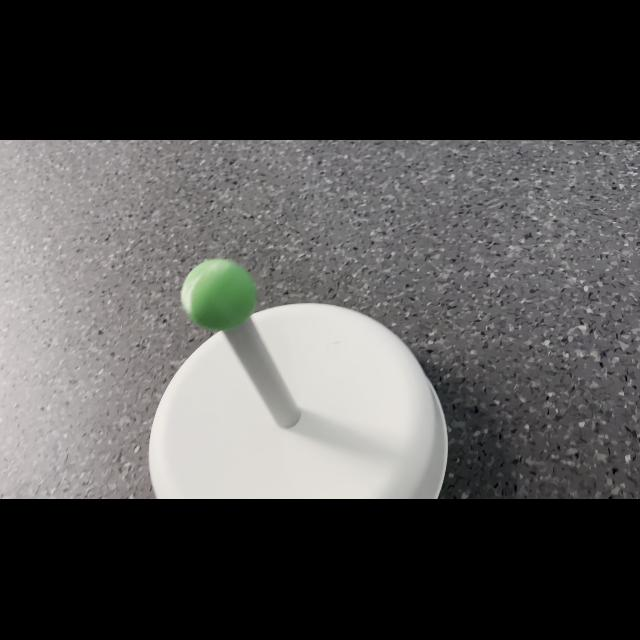objects: (176, 254, 264, 334)
